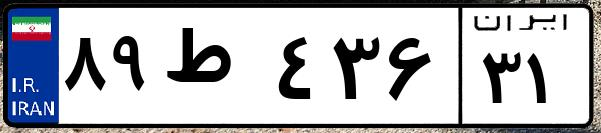1: (525, 38, 570, 115)
3: (330, 28, 385, 110), (475, 38, 525, 113)
4: (270, 28, 330, 110)
6: (385, 28, 445, 110)
8: (57, 26, 110, 100)
9: (110, 28, 158, 98)
ط: (158, 20, 270, 120)
